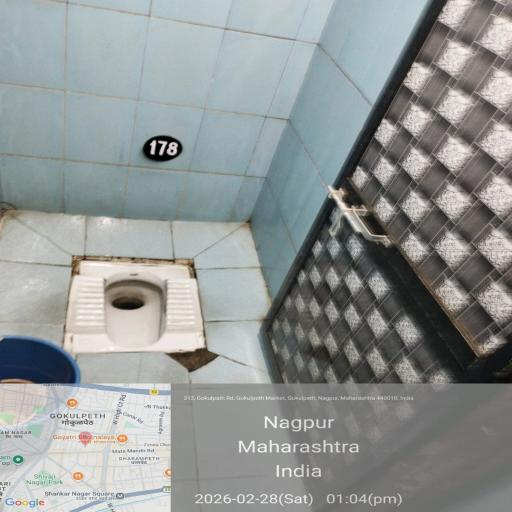clean_floor: (24, 21, 434, 192)
clean_indian: (36, 249, 250, 375)
damage: (148, 333, 256, 401)
partial_dirty_floor: (6, 193, 401, 512)
